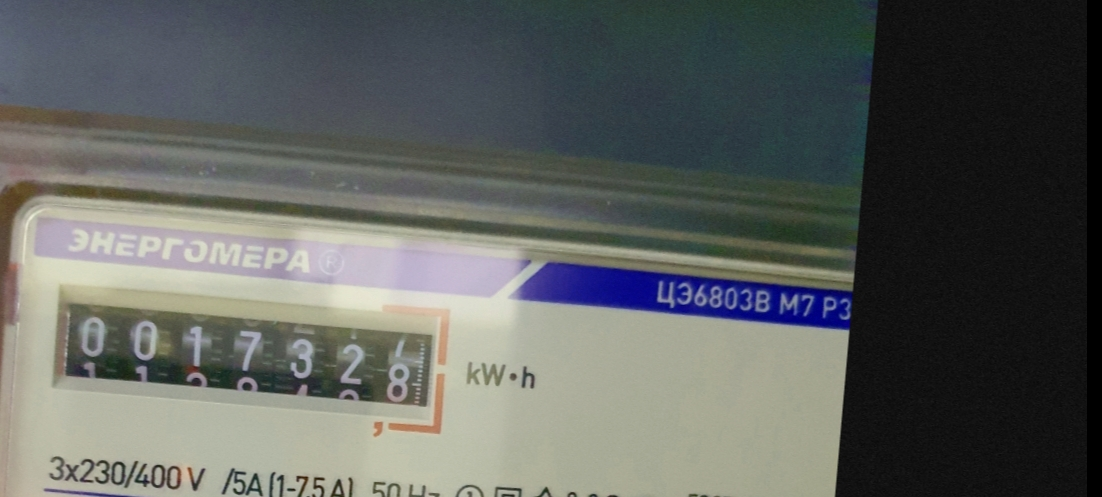0: (76, 313, 111, 360), (129, 316, 162, 363)
1: (183, 321, 209, 369)
2: (335, 340, 368, 388)
3: (287, 335, 317, 381)
7: (233, 327, 264, 376)
8: (383, 360, 412, 404)
screen: (40, 277, 460, 440)
